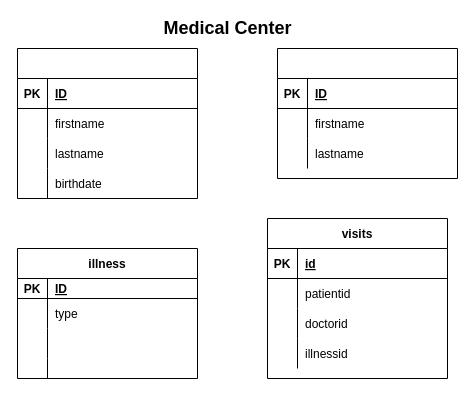
This 475x396 diagram has some shape labels left out. The box of each missing label's shape, as (x1, y1, x2, y2) in pixels:
doctors: (276, 48, 458, 178)
patient: (16, 48, 198, 198)
